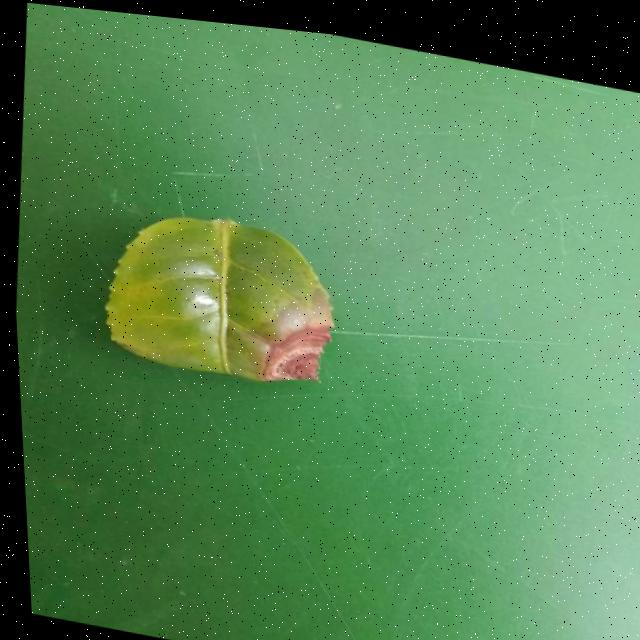Tea cloud leaf blight: (241, 285, 350, 389)
